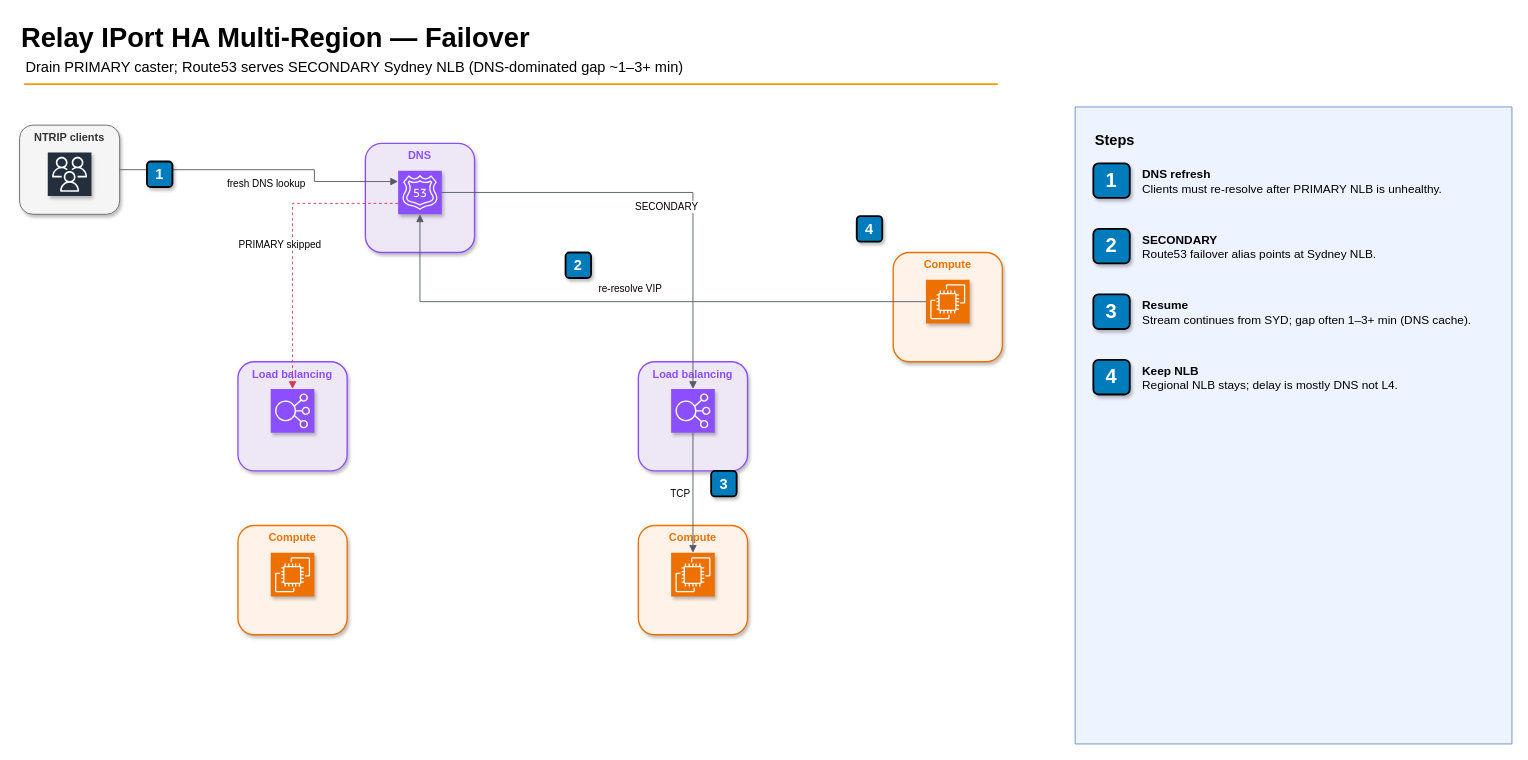
This 1528x760 diagram has some shape labels left out. The centre of each missing label's shape, as x and y in pixels:
"BNC client reconnect + DNS" goes at (948,302).
"Caster AKL drained" goes at (293,575).
"Caster SYD serving" goes at (693,575).
"NLB AKL no healthy targets" goes at (293,411).
"NLB SYD active" goes at (693,411).
"Route 53 PRIMARY unhealthy" goes at (420,193).
